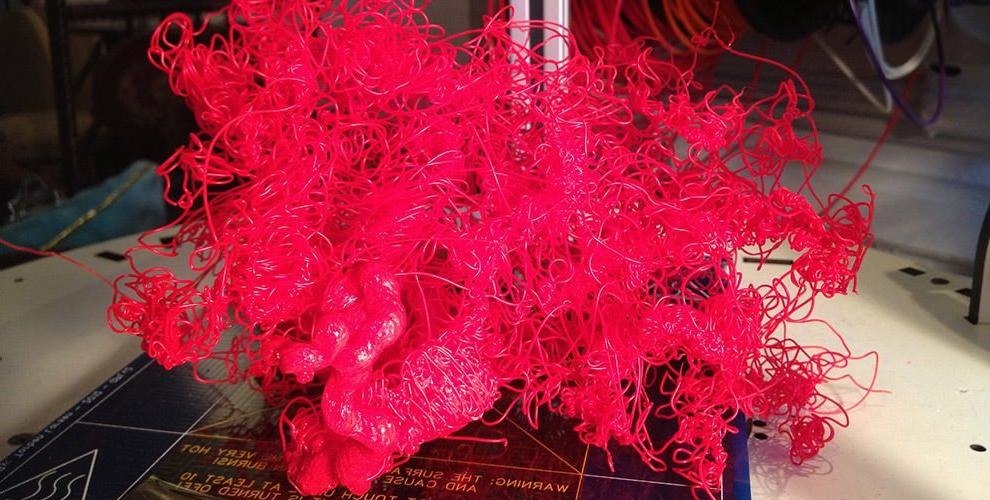Printing-Artifact: (113, 0, 893, 491)
